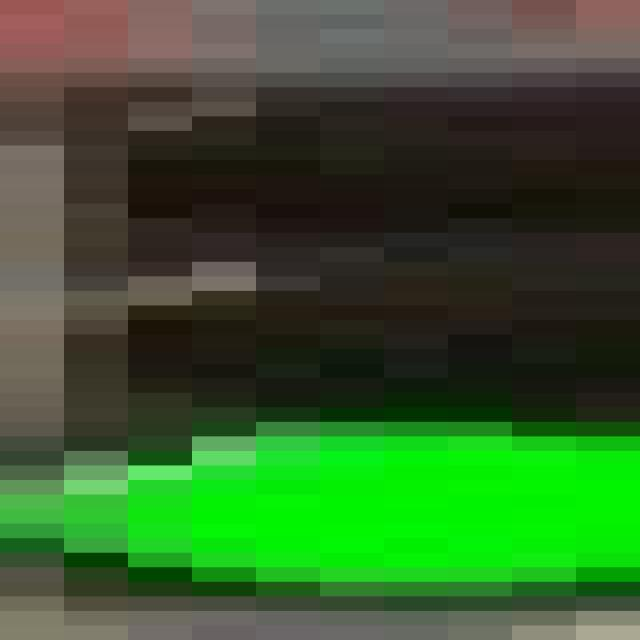green_light: (10, 85, 640, 582)
